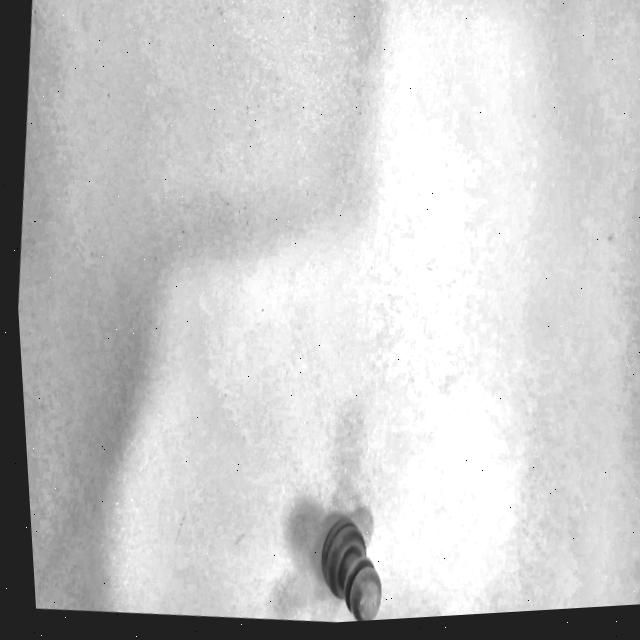white-pawn: (295, 480, 411, 624)
